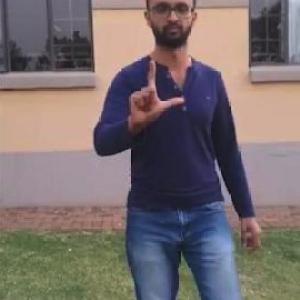land_hand: (122, 53, 194, 138)
